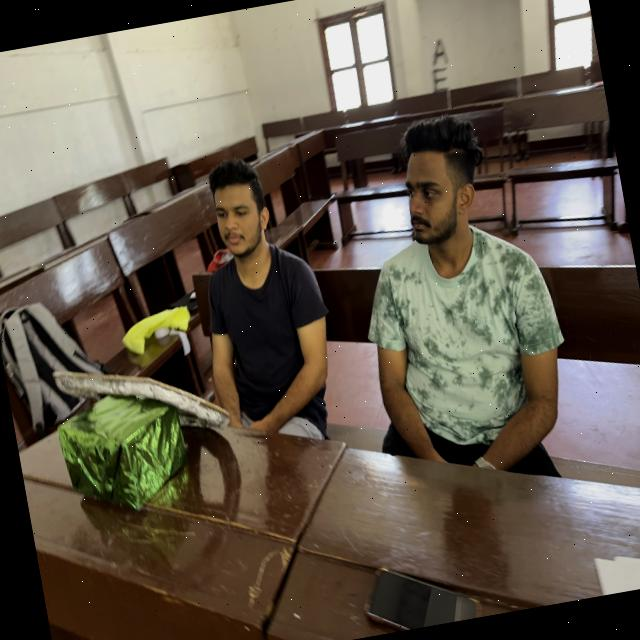no-seatbelt: (354, 213, 588, 517), (194, 240, 351, 473)
